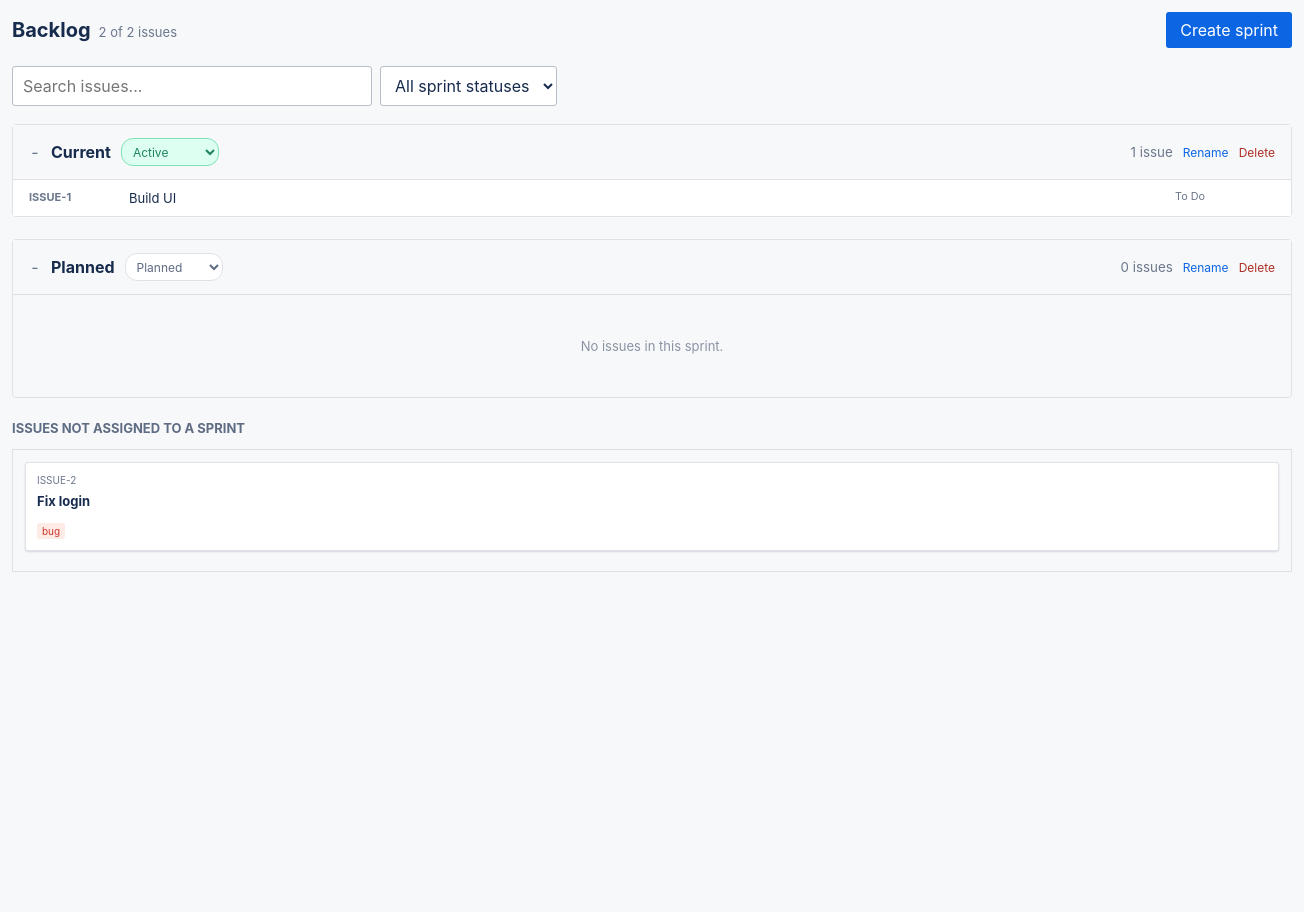
Test: BacklogPage › filters issues and sprints
The width and height of the screenshot is (1304, 912).
In the field named "Search backlog issues": (192, 86) top-left (12, 66), bottom-right (372, 106), type "login"
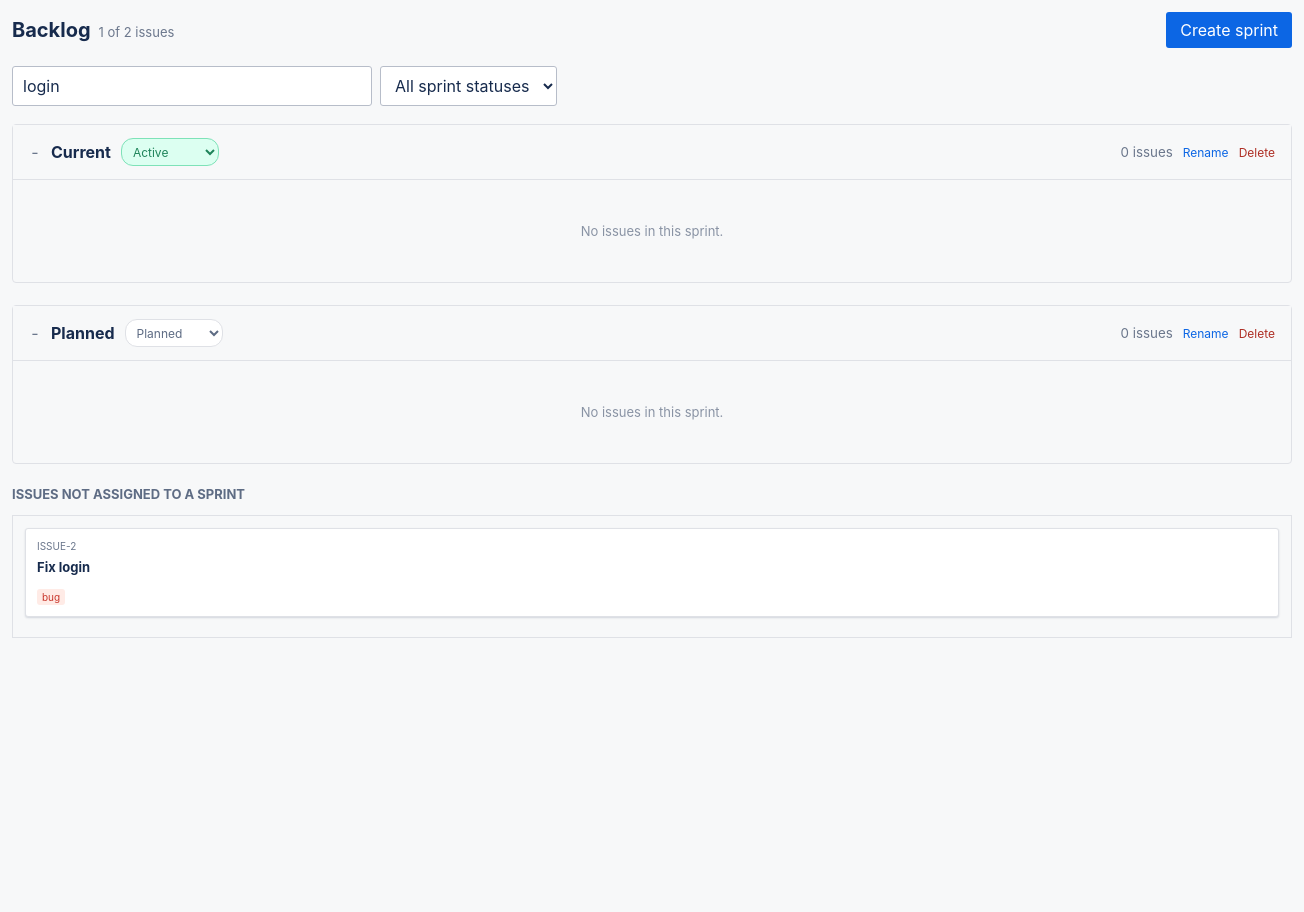
expect the text "Fix login" is shown: met, box top-left (37, 559), bottom-right (90, 575)
expect the button "Build UI" is gone: met
Select "planned" in the dropdown named "Filter sprints by status": (468, 86) top-left (380, 66), bottom-right (557, 106)
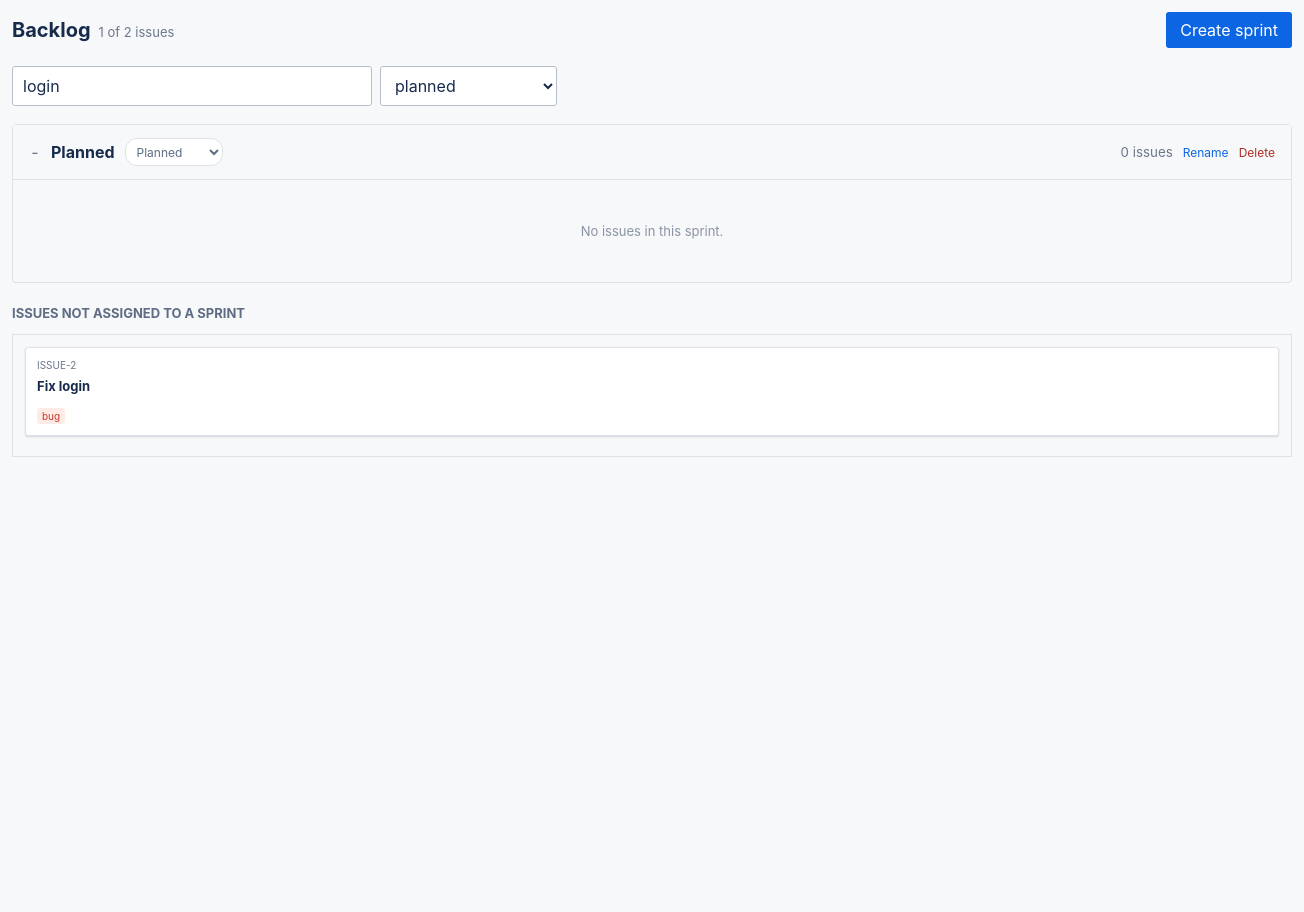
expect the text "Planned" is shown: met, box top-left (51, 142), bottom-right (114, 162)
expect the text "Current" is gone: met
